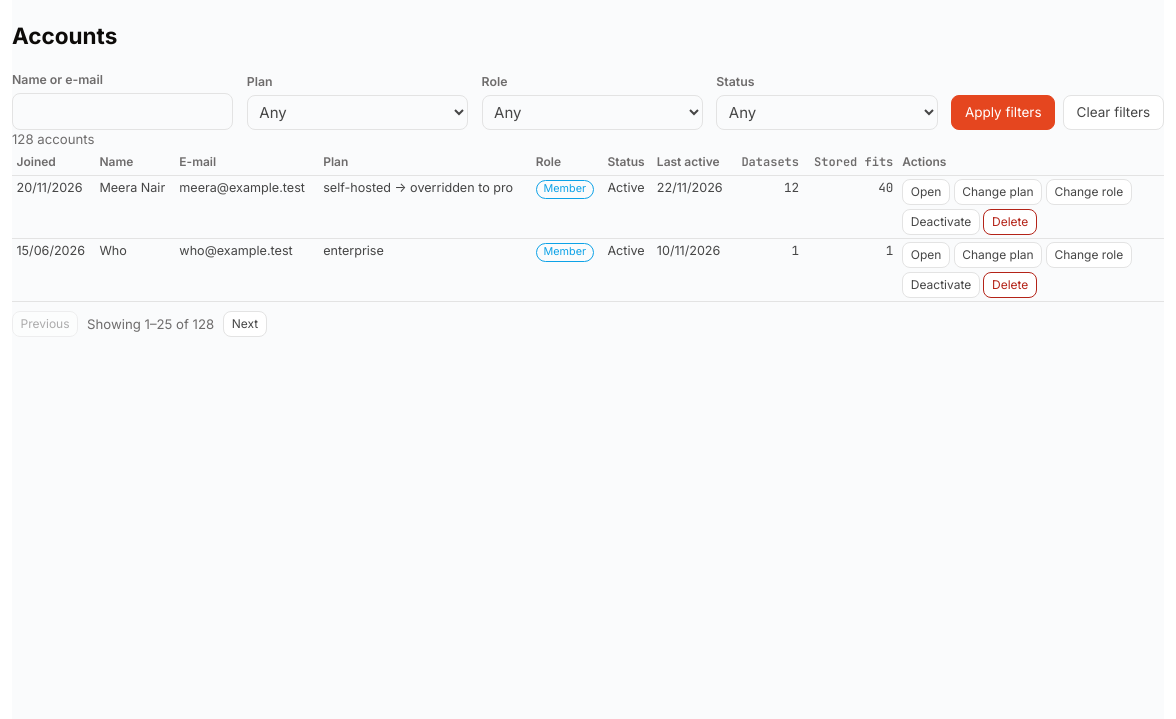
UsersPage — one account's detail › shows the usage in plain figures when the plan's limits are not known
Expected: the table named "Accounts" is shown, [12,150,1164,302]
Click the button with aria-label "Open who@example.test" at [926, 255], box [902,242,950,268]
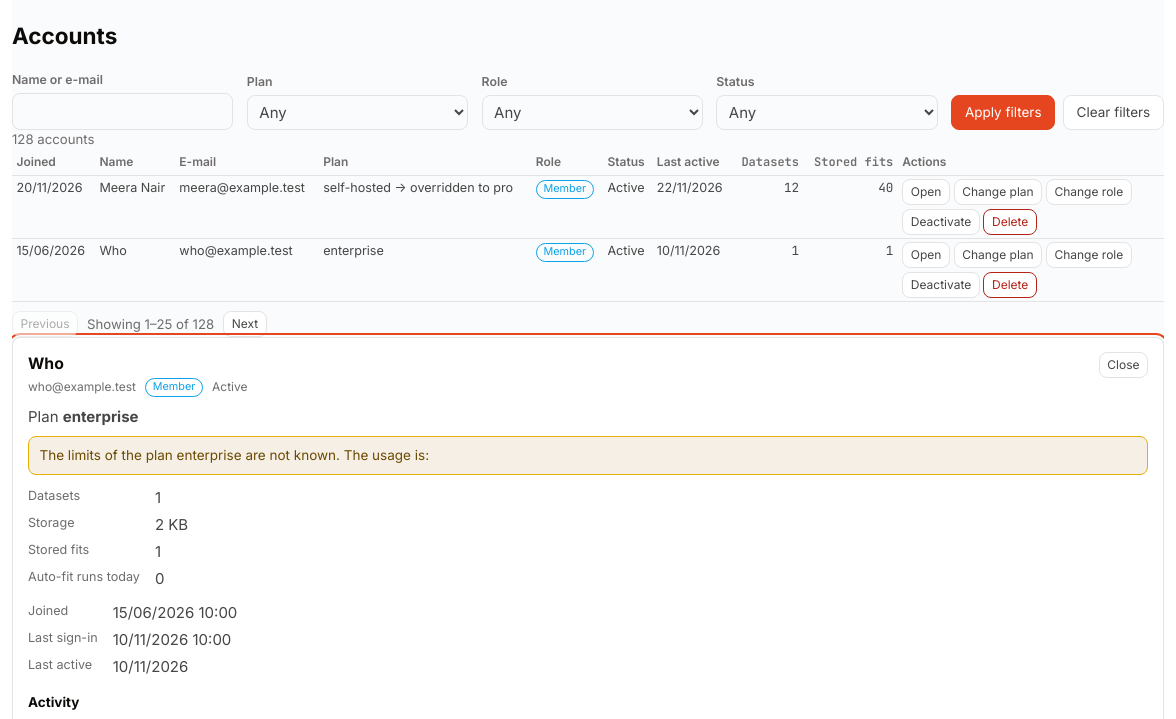
Result: the text "The limits of the plan enterprise are not known" is shown at [28,436,1148,475]
